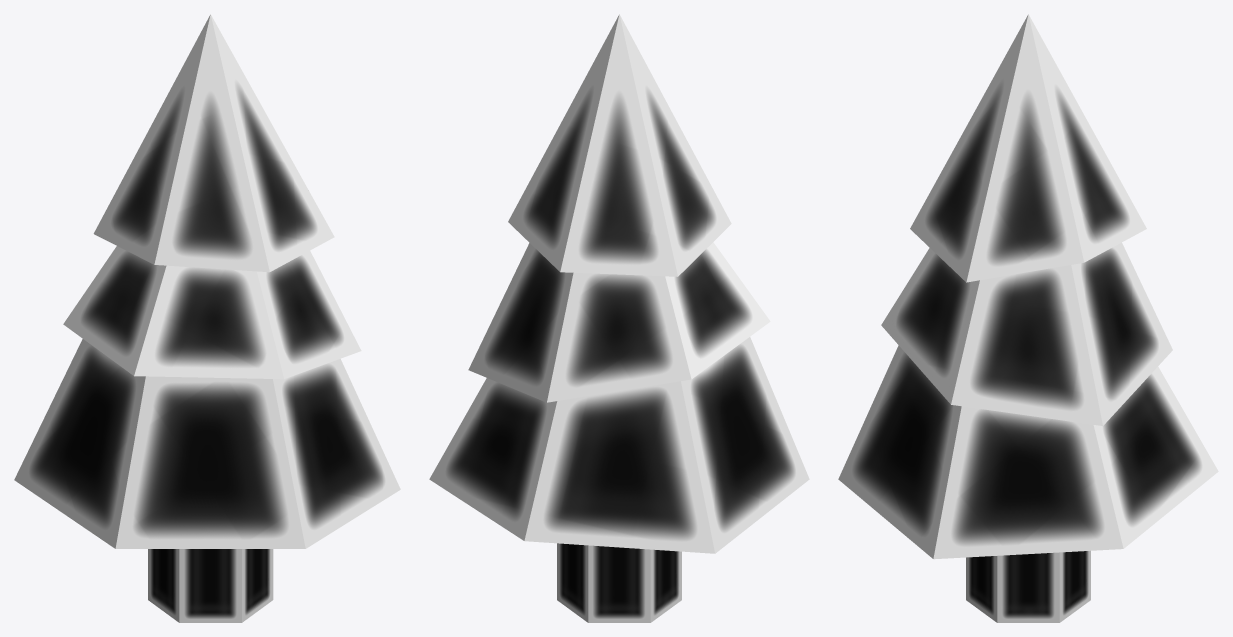
Rendered from tree.glb.
3 views of the same model, side by side, from view 1: azimuth 30°, elevation 25°; view 2: azimuth 150°, elevation 25°; view 3: azimuth 270°, elevation 25° (orthographic).
Visible parts, largest first — view 1: Cone, Cylinder; view 2: Cone, Cylinder; view 3: Cone, Cylinder.
Part boxes in pixels (x1,y1,x2,y2): Cone: [14, 14, 400, 548]; Cylinder: [148, 549, 273, 622]; Cone: [429, 14, 809, 553]; Cylinder: [557, 543, 681, 622]; Cone: [838, 14, 1218, 559]; Cylinder: [966, 550, 1090, 622].
Size of the model in its own units: 2.81 by 5.45 by 3.21.
Materials: 2 (2 with a texture image).
